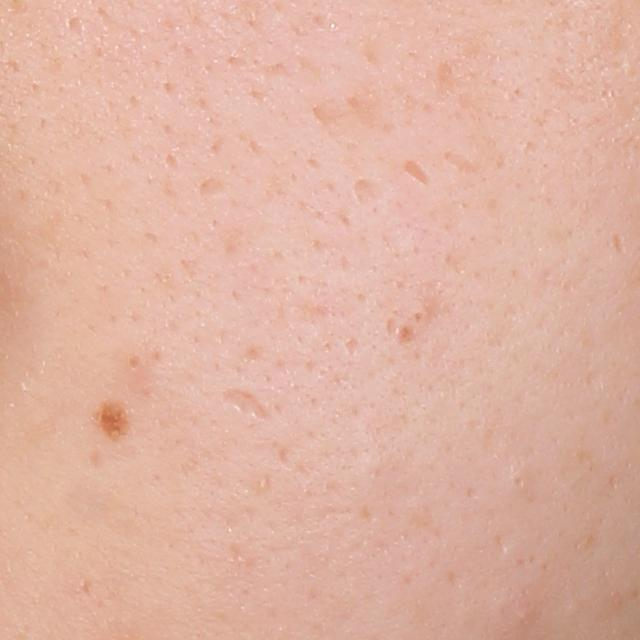atrophic_scar: (219, 388, 270, 424), (437, 148, 481, 175), (402, 160, 436, 190), (354, 179, 383, 211), (196, 175, 226, 197), (609, 230, 627, 253)
comedo: (117, 348, 148, 374), (510, 467, 532, 493)
nevus: (96, 399, 134, 443)
